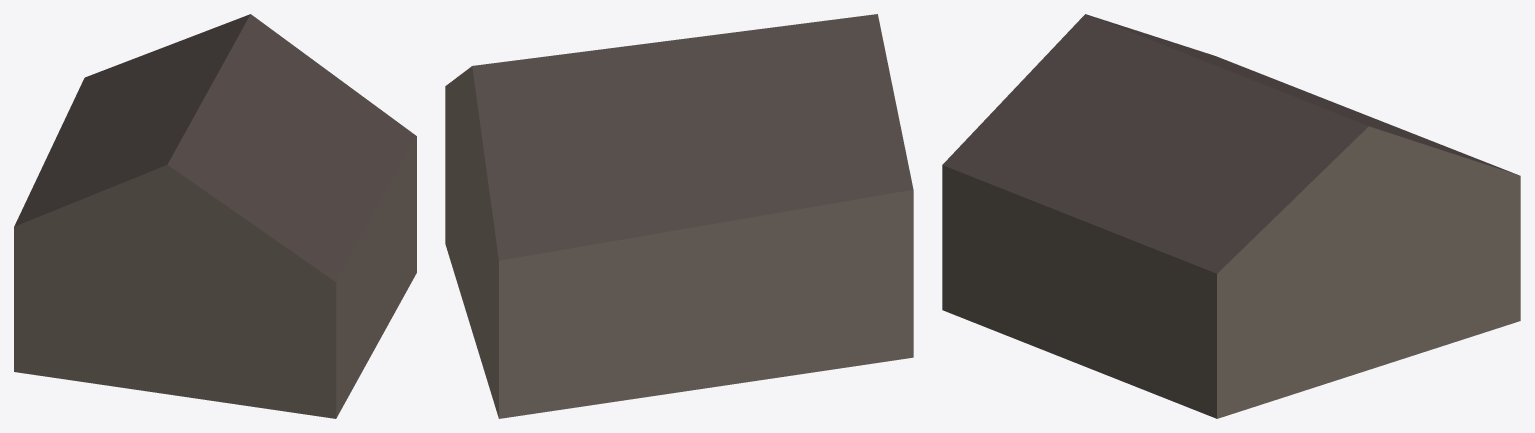
3 renders of one model, left to right at view 1: azimuth 30°, elevation 25°; view 2: azimuth 150°, elevation 25°; view 3: azimuth 270°, elevation 25°, orthographic. The views are drawn at different scales.
Visible parts, largest first — view 1: HP-w858807441; view 2: HP-w858807441; view 3: HP-w858807441.
Part boxes in pixels (x1,y1,x2,y2): HP-w858807441: (14,14,416,418); HP-w858807441: (445,14,913,418); HP-w858807441: (942,14,1520,418).
Bounding box in the file's own units: 18.53 × 10.08 × 21.68.
